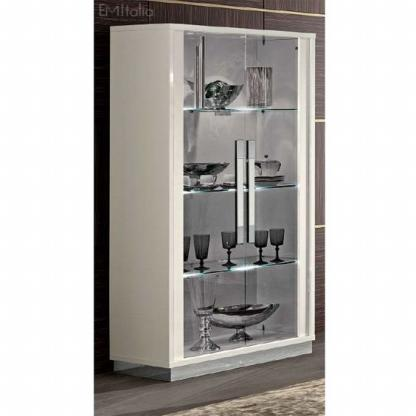Cupboard: (106, 26, 318, 385)
